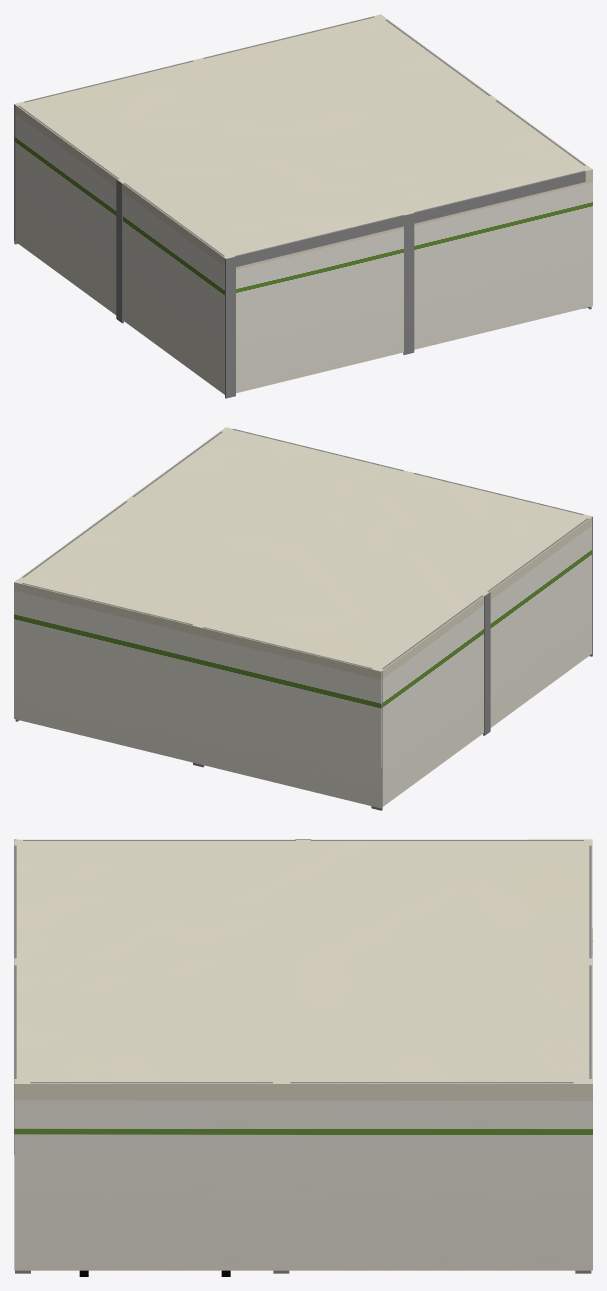
The model's file is machine_room.glb.
3 renders of one model, top to bottom at view 1: azimuth 30°, elevation 25°; view 2: azimuth 150°, elevation 25°; view 3: azimuth 270°, elevation 25°, orthographic. The views are drawn at different scales.
Visible parts, largest first — view 1: Plane, Viga.007, Viga.008, Viga.005, Viga.006, Viga.010; view 2: Plane, Viga.010; view 3: Plane, Viga.003.
Part boxes in pixels (box(x1,y1,x2,y2)): Plane: box(14, 14, 592, 394); Viga.007: box(414, 170, 585, 223); Viga.008: box(235, 215, 404, 267); Viga.005: box(403, 213, 414, 354); Viga.006: box(225, 257, 235, 398); Viga.010: box(116, 179, 123, 323); Plane: box(14, 427, 592, 808); Viga.010: box(483, 592, 490, 735); Plane: box(14, 839, 592, 1270); Viga.003: box(290, 1082, 573, 1083).
Bounding box in the file's own units: 4.01 × 1.5 × 4.
6 materials, 2 textured.
